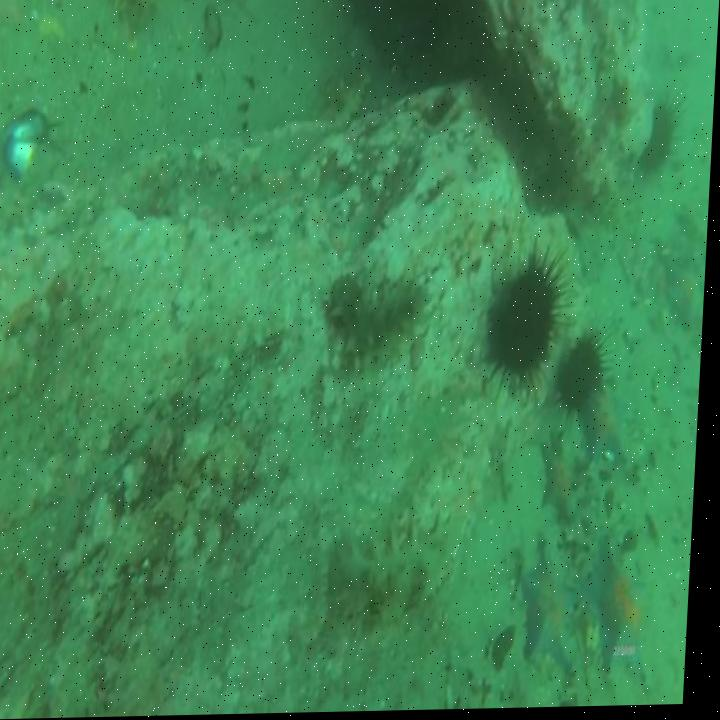echinus: (483, 246, 576, 405), (559, 321, 625, 418), (642, 95, 688, 188)
holothurian: (339, 513, 464, 627), (324, 268, 437, 376), (328, 61, 377, 135), (582, 179, 643, 235)
starfish: (579, 534, 662, 701), (519, 534, 592, 682), (539, 430, 593, 541), (582, 383, 639, 471), (662, 245, 709, 336)
